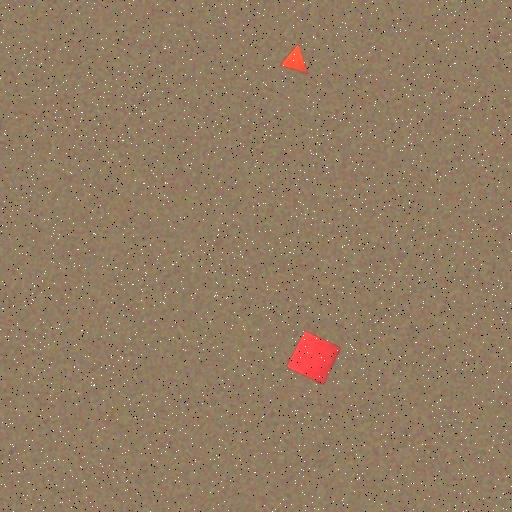RED_SQUARE: (286, 330, 342, 386)
